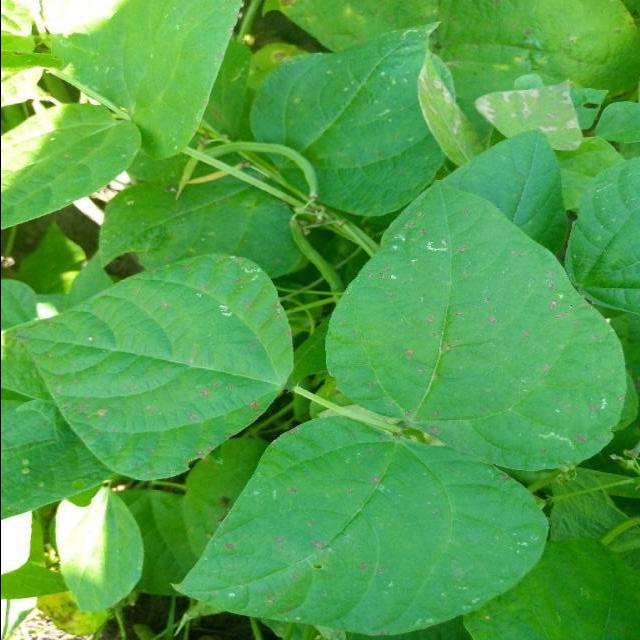embun tepung: (85, 62, 640, 640)
